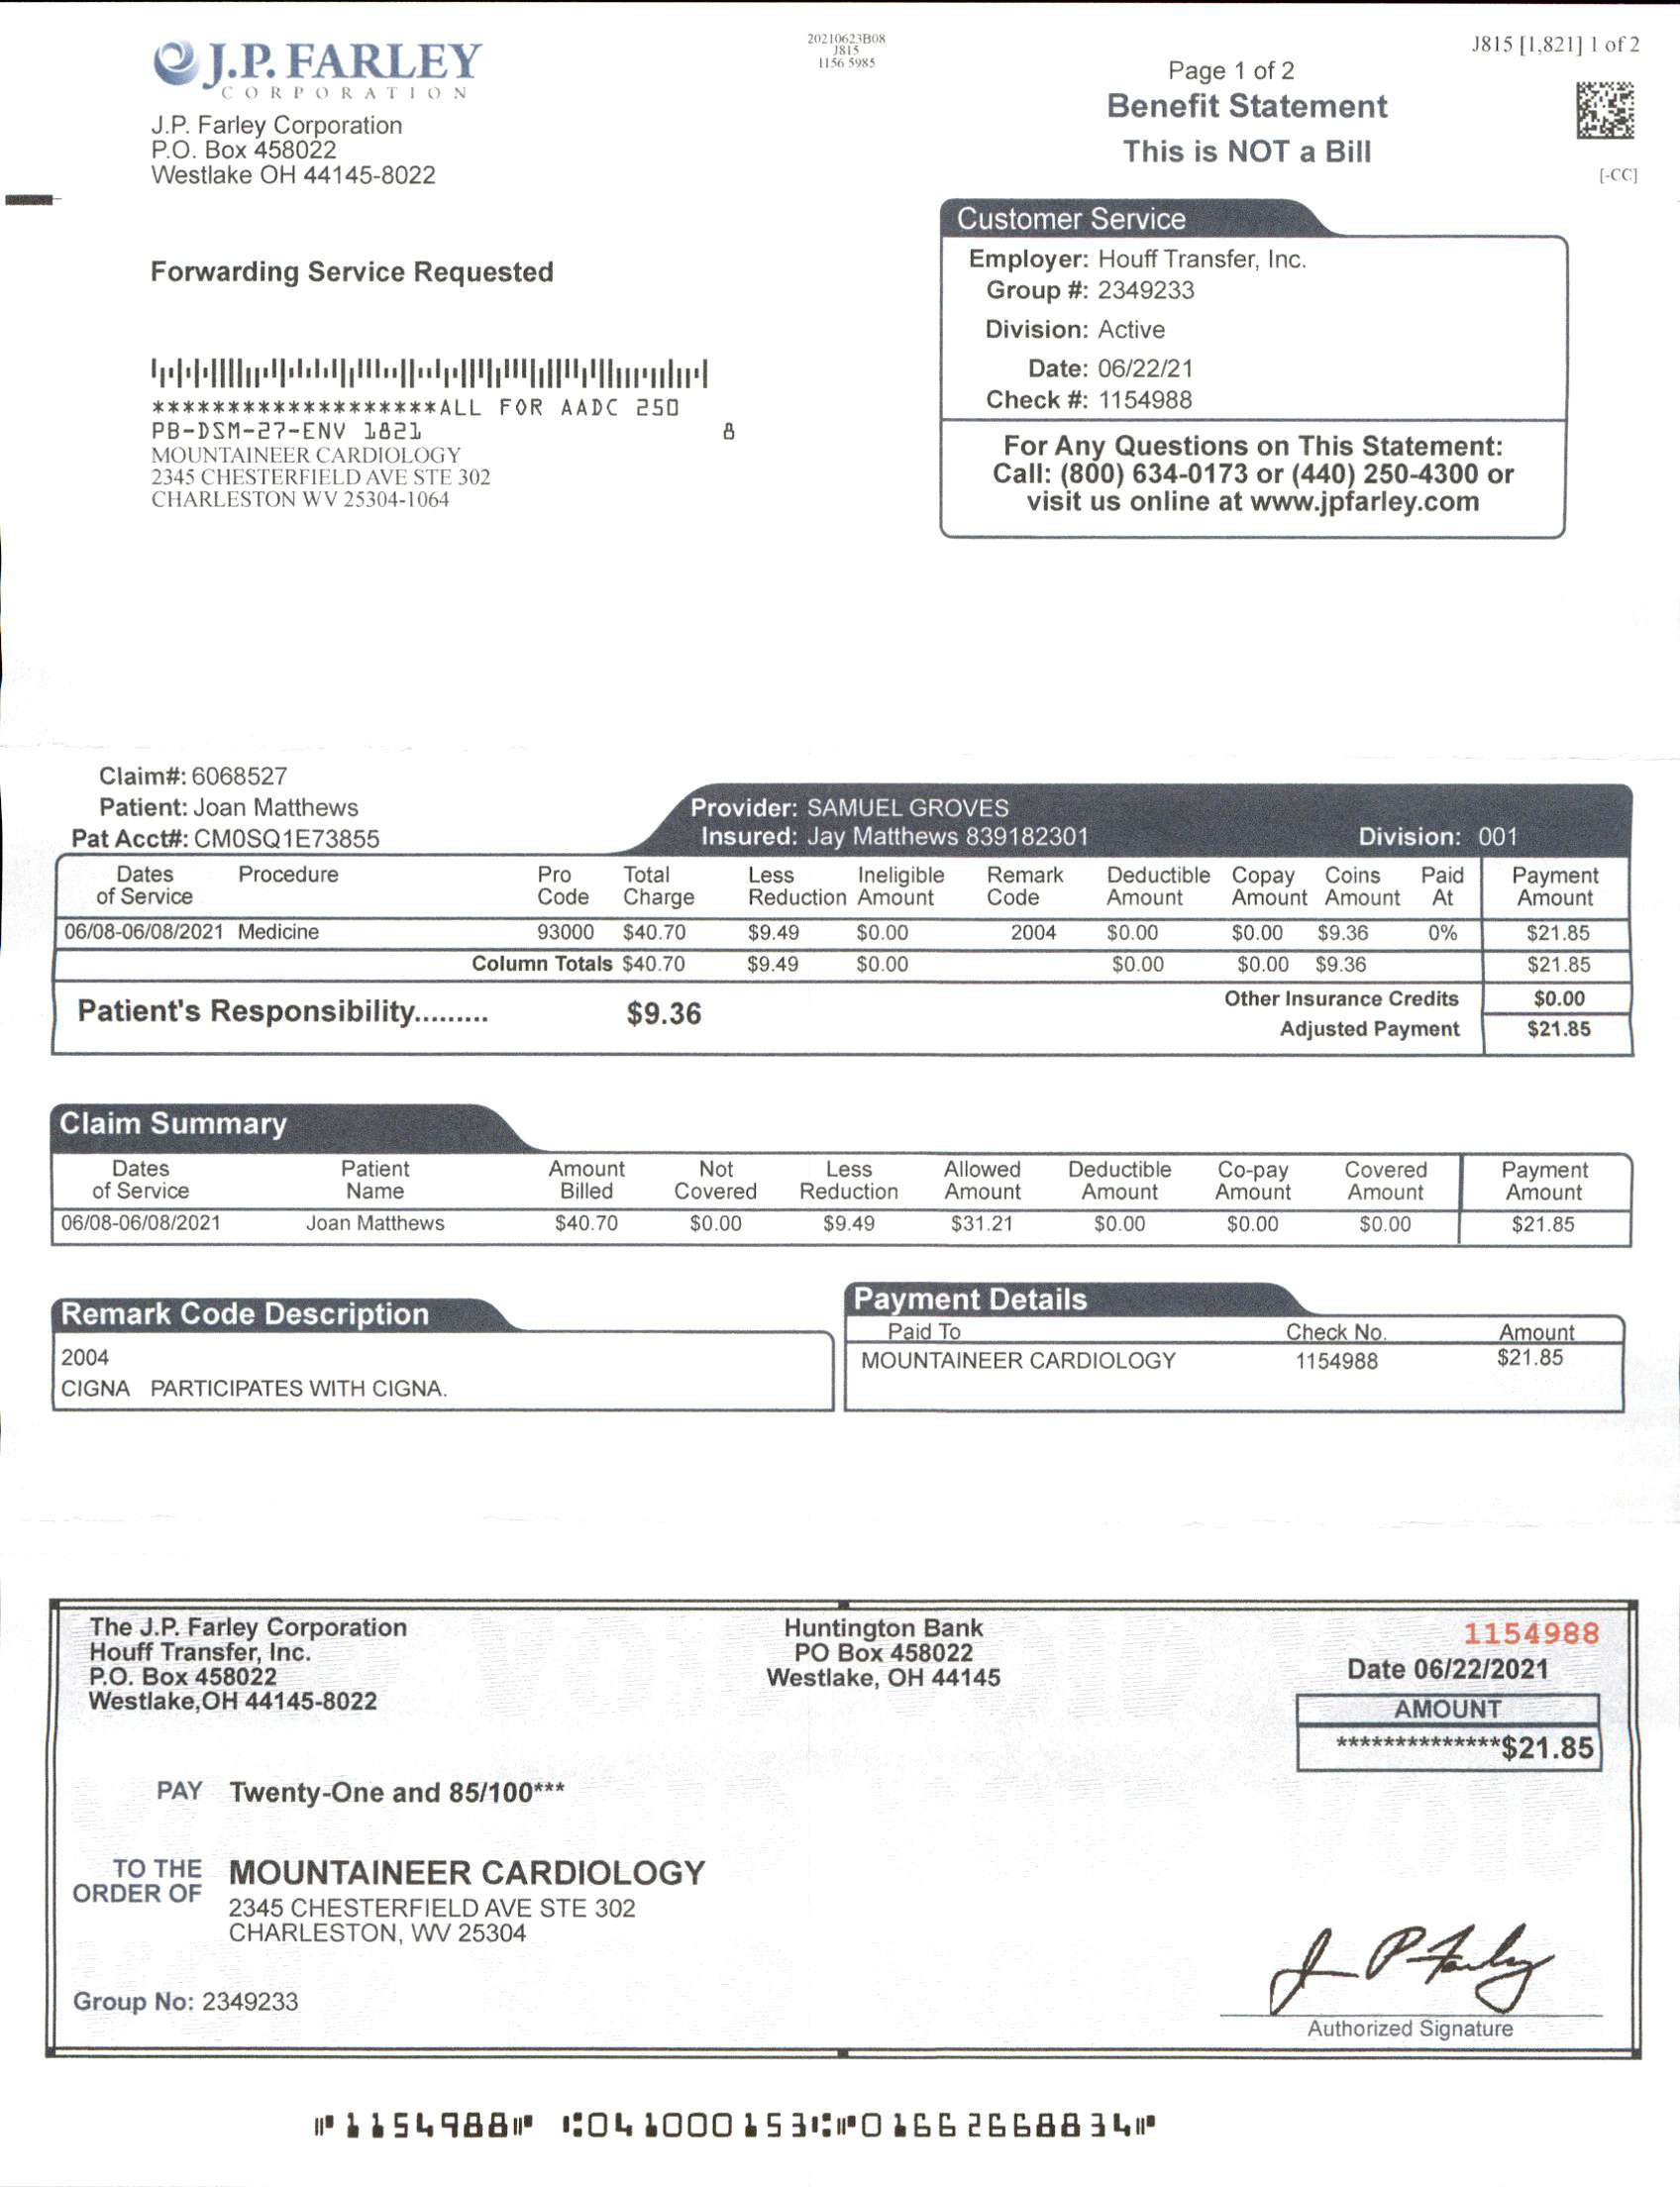data: (918, 189, 1590, 554), (62, 744, 408, 857), (671, 776, 1119, 855)
table: (44, 1092, 1645, 1265), (35, 854, 1634, 991), (838, 1282, 1634, 1427)
